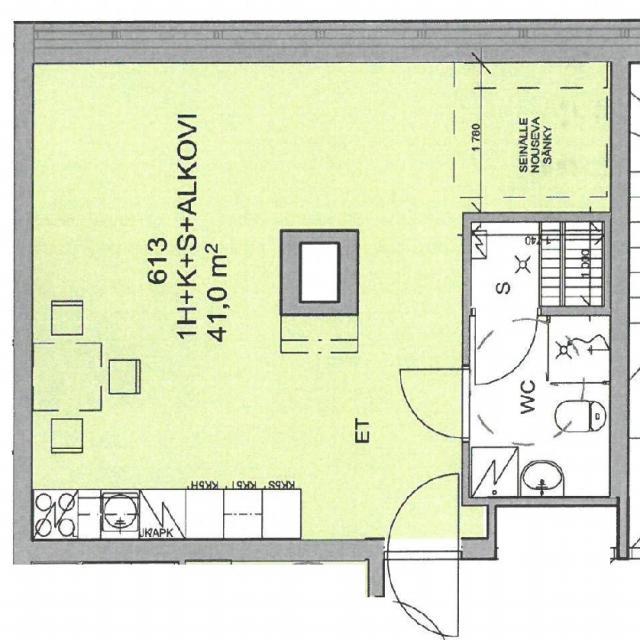door: (388, 462, 458, 561), (388, 540, 458, 638), (400, 368, 470, 438), (474, 306, 536, 382)
